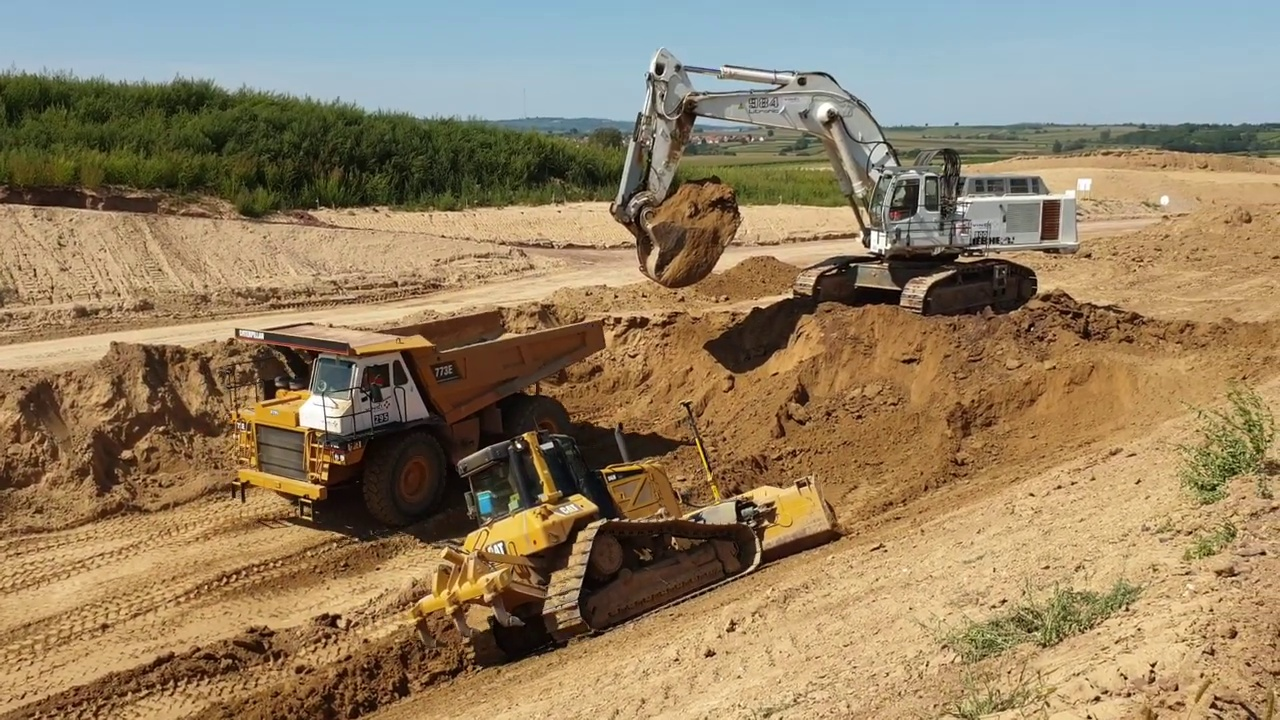bulldozer: (410, 431, 841, 630)
dumper: (227, 310, 607, 528)
excavator: (607, 46, 1082, 322)
